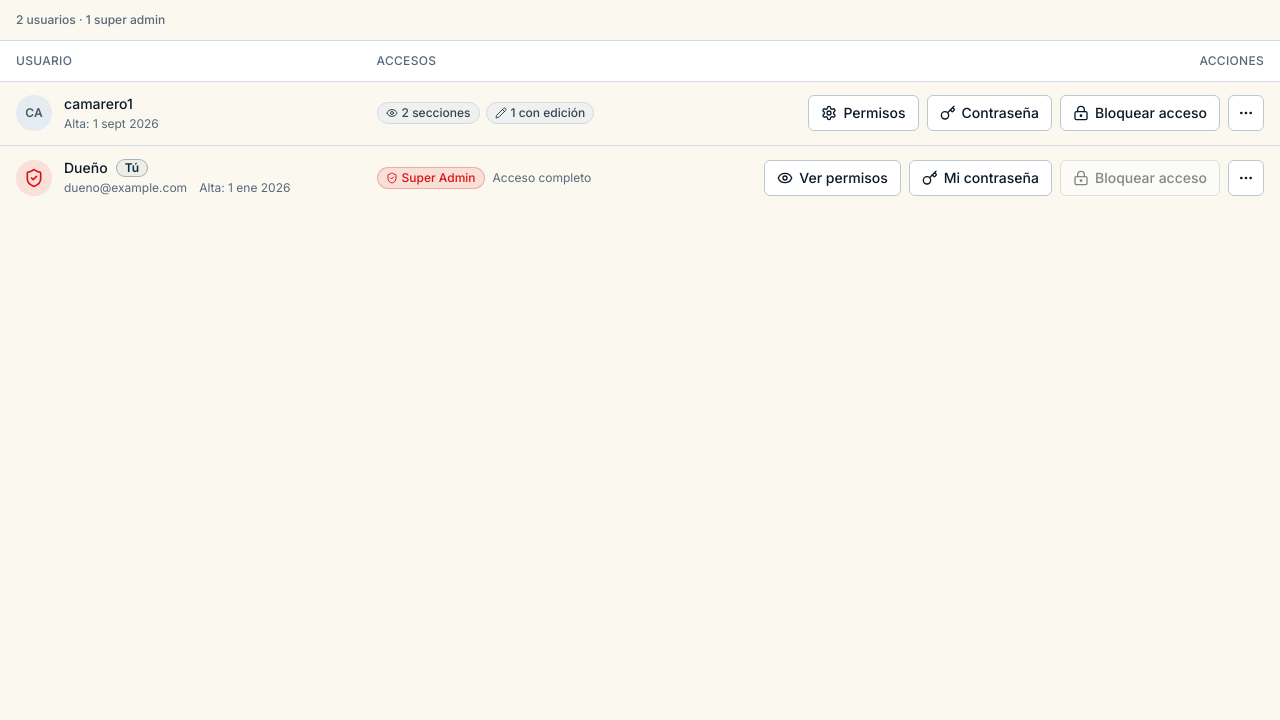
Test: bloquea y desbloquea sin borrar la cuenta ni sus permisos a 1280 px
The image size is (1280, 720).
Click the button "Bloquear acceso" in the row of "camarero1": (1140, 113) [1060,95,1220,131]
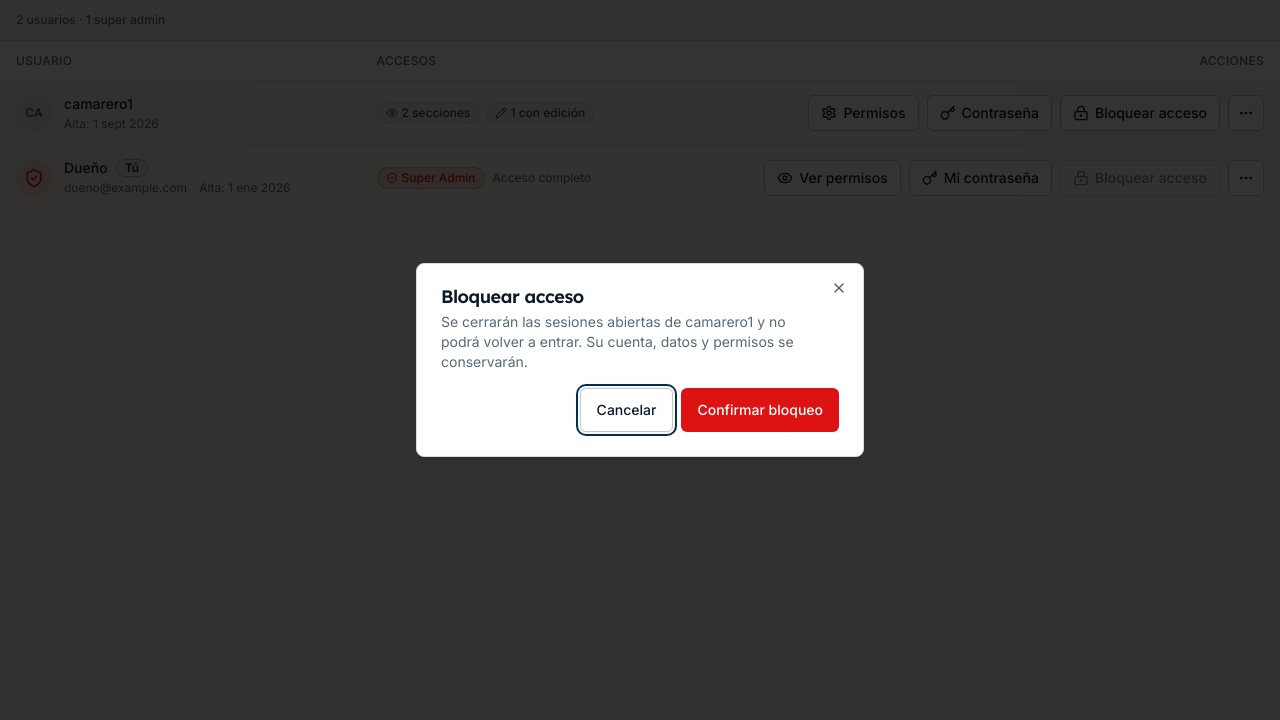
Now the text "Se cerrarán las sesiones abiertas" is shown, box [441,313,794,370]
Click the button "Confirmar bloqueo": (760, 410) [682,388,839,432]
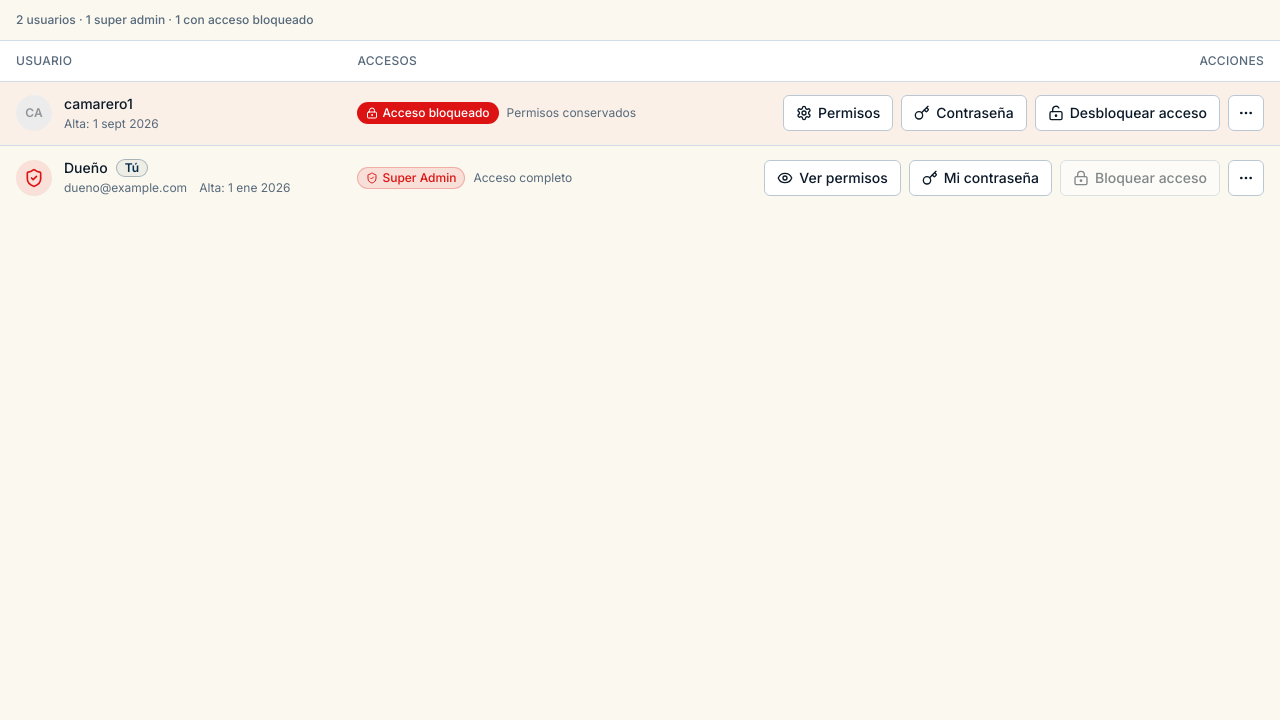
Now the dialog is gone
Now the text "Acceso bloqueado" is shown, box [357,102,499,124]
Click the button "Desbloquear acceso": (1127, 113) [1035,95,1220,131]
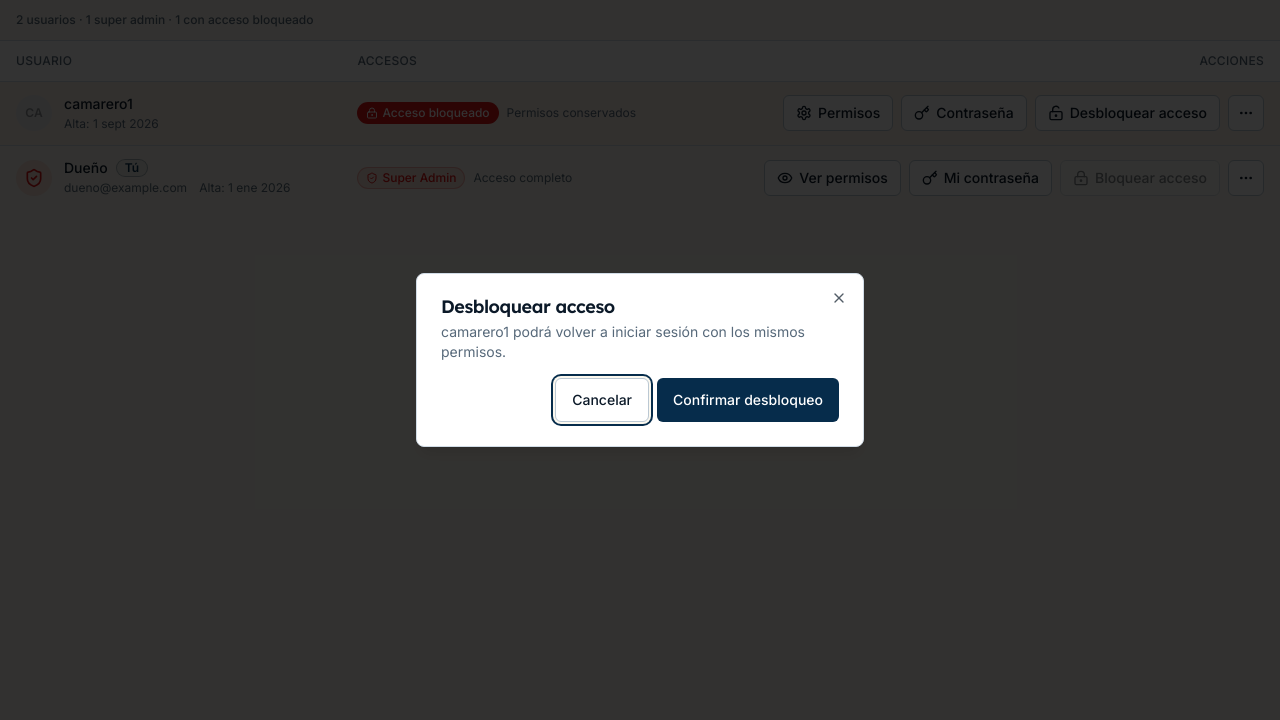
Click the button "Confirmar desbloqueo": (748, 400) [657,378,839,422]
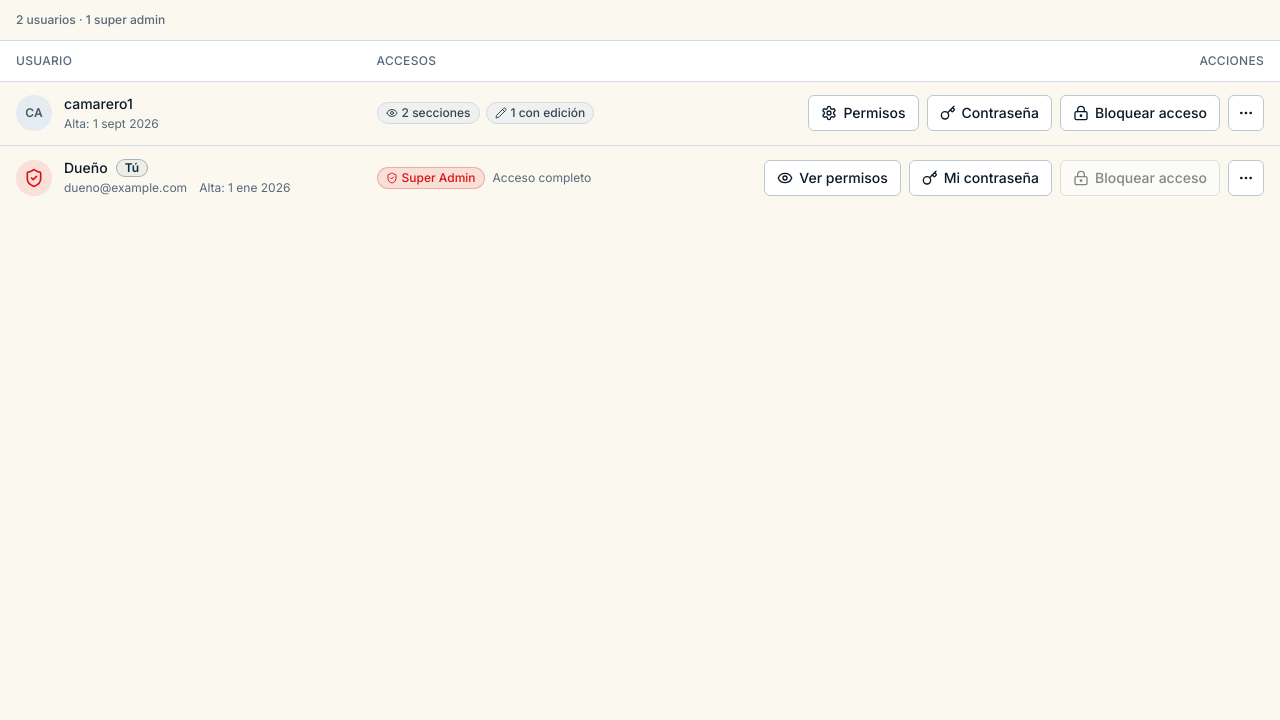
Now the dialog is gone
Now the text "2 secciones" is shown, box [376,102,480,124]
